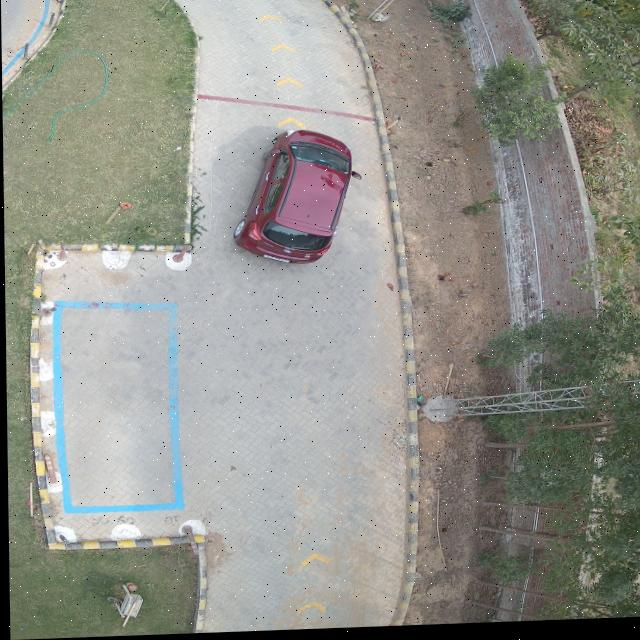car: (231, 131, 359, 267)
